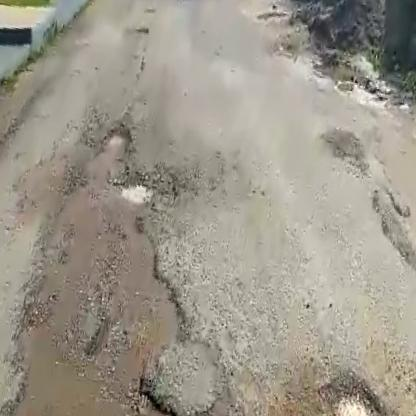pothole: (315, 371, 393, 416), (117, 177, 156, 209), (101, 123, 132, 151)
